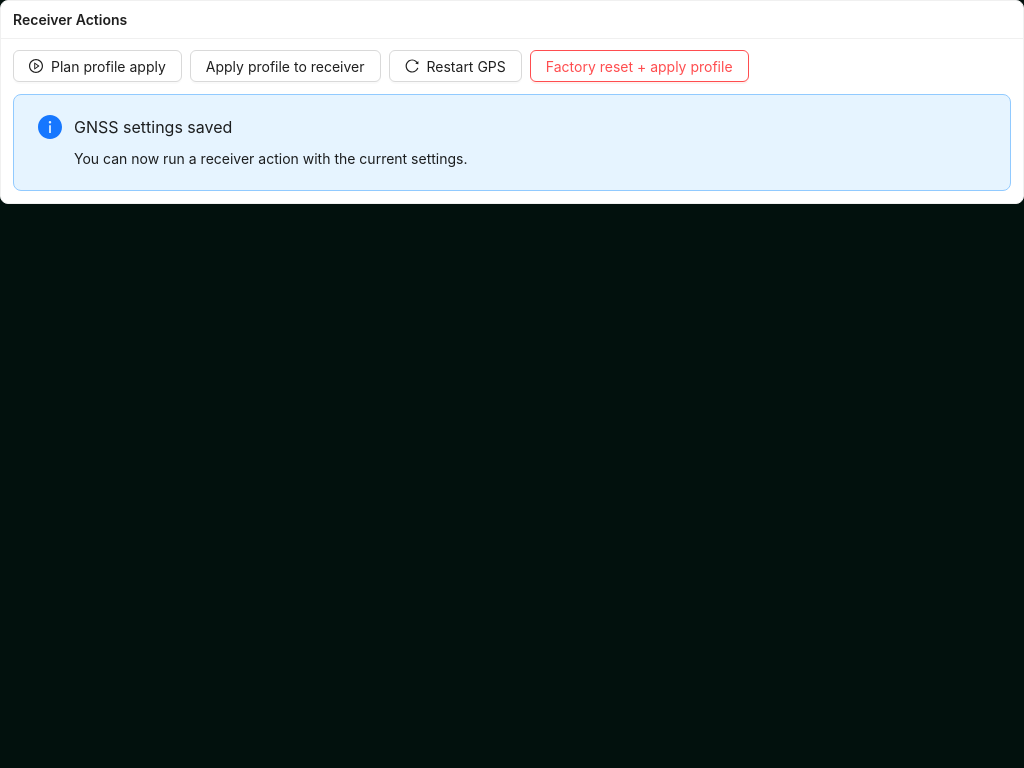
Test case: GnssReceiverActionsCard › renders execution, detected, runtime, and target baud fields separately
This screenshot has width=1024, height=768.
Click the button "Plan profile apply" at {"x": 97, "y": 66}, box [13,50,182,82]
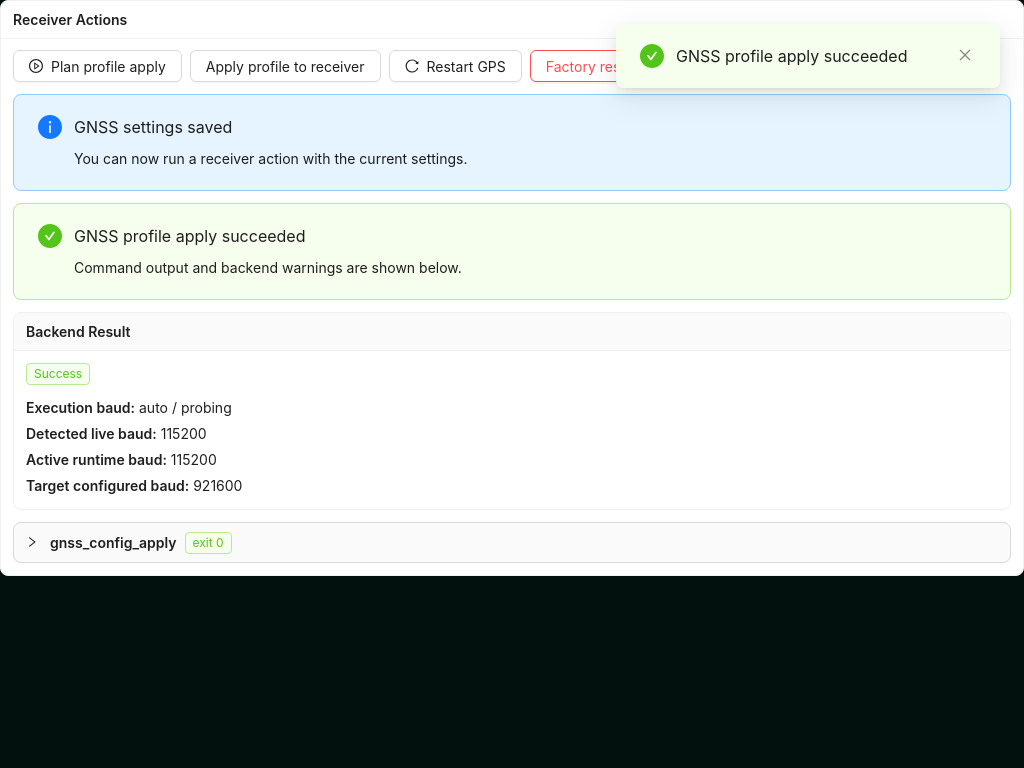
Expected: the text "Execution baud:" is shown, [26,399,135,416]
Expected: the text "auto / probing" is shown, [139,399,232,416]
Expected: the text "Detected live baud:" is shown, [26,425,157,442]
